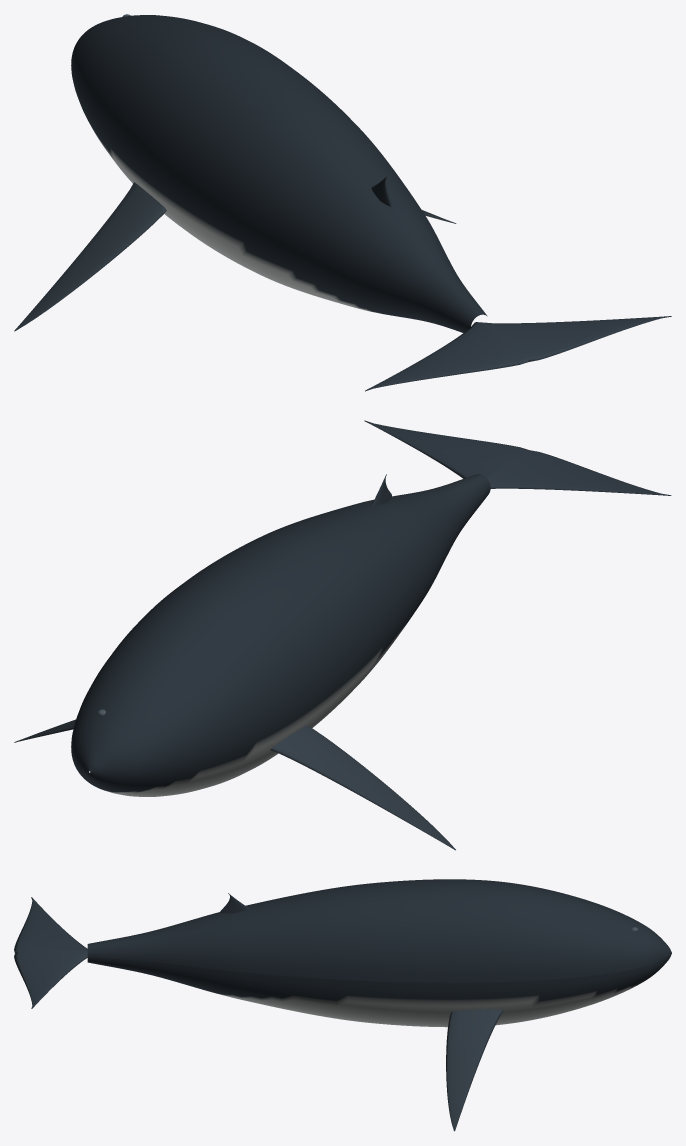
The model's file is whale.glb.
3 views of the same model, one above another, from view 1: azimuth 30°, elevation 25°; view 2: azimuth 150°, elevation 25°; view 3: azimuth 270°, elevation 25° (orthographic). The views are drawn at different scales.
Visible parts, largest first — view 1: DolphinBodyWhaleAssembly, DolphinFinWhaleFlukeAssembly; view 2: DolphinBodyWhaleAssembly, DolphinFinWhaleFlukeAssembly; view 3: DolphinBodyWhaleAssembly, DolphinFinWhaleFlukeAssembly.
Boxes of the visible parts, x1,y1,x2,y2 form: DolphinBodyWhaleAssembly: [14, 15, 487, 332]; DolphinFinWhaleFlukeAssembly: [365, 316, 671, 391]; DolphinBodyWhaleAssembly: [14, 474, 490, 850]; DolphinFinWhaleFlukeAssembly: [364, 420, 671, 495]; DolphinBodyWhaleAssembly: [87, 879, 671, 1131]; DolphinFinWhaleFlukeAssembly: [14, 897, 88, 1008].
Size of the model in its own units: 8.92 by 4.28 by 15.4.
